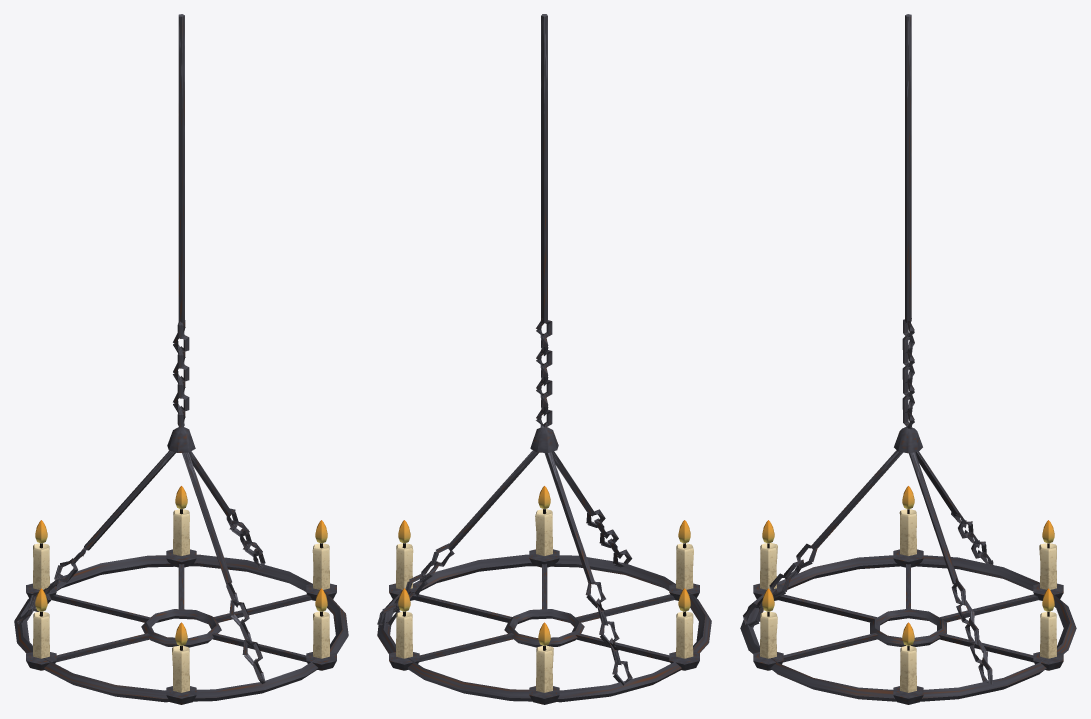
File: Lamp_Chandelier.fbx
The picture shows the model from 3 angles, left to right: view 1: azimuth 30°, elevation 25°; view 2: azimuth 150°, elevation 25°; view 3: azimuth 270°, elevation 25°; orthographic projection.
Parts seen in each view (by area): view 1: Lamp_Chandelier; view 2: Lamp_Chandelier; view 3: Lamp_Chandelier.
Boxes of the visible parts, box(x1,y1,x2,y2) form: Lamp_Chandelier: box(14, 14, 348, 704); Lamp_Chandelier: box(377, 14, 711, 704); Lamp_Chandelier: box(740, 14, 1076, 704).
Size of the model in its own units: 1.22 by 2.32 by 1.14.
2 materials, 2 textured.
